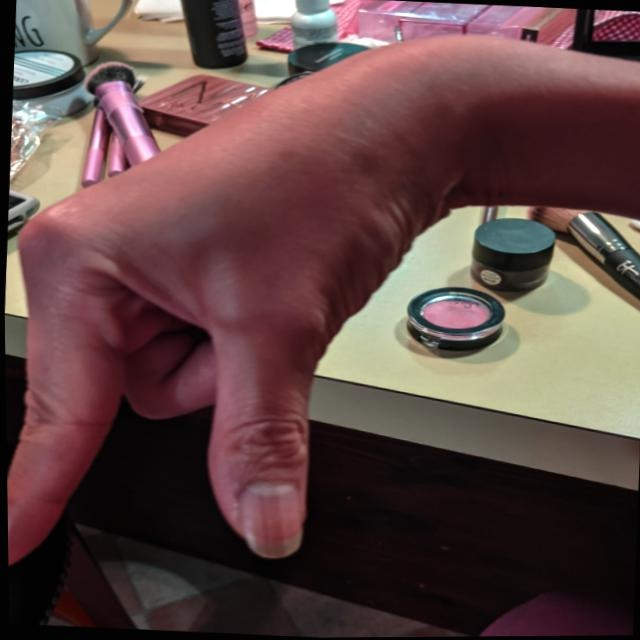Q: (0, 5, 484, 608)
